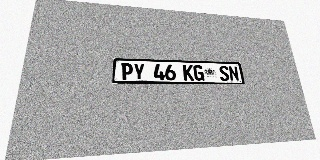plate: (112, 58, 245, 84)
